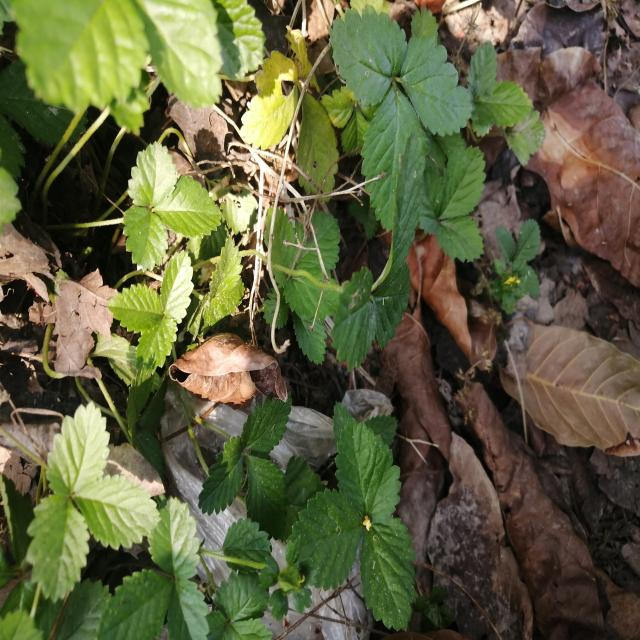Mock_strawberry: (335, 0, 500, 274), (12, 432, 180, 628), (293, 426, 416, 625)
